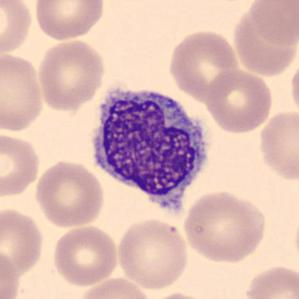Monocyte: (85, 79, 215, 224)
RBC: (181, 189, 269, 264), (115, 216, 191, 290), (166, 27, 241, 101), (35, 37, 107, 112), (32, 157, 106, 229), (203, 67, 274, 135), (50, 223, 120, 289), (232, 10, 297, 75), (0, 51, 46, 134), (0, 206, 46, 278), (255, 108, 298, 184), (32, 0, 108, 42), (0, 130, 43, 199), (247, 0, 299, 48), (242, 262, 298, 299), (0, 0, 35, 57), (76, 275, 153, 299), (0, 247, 22, 299), (288, 58, 299, 118), (147, 290, 215, 299)
